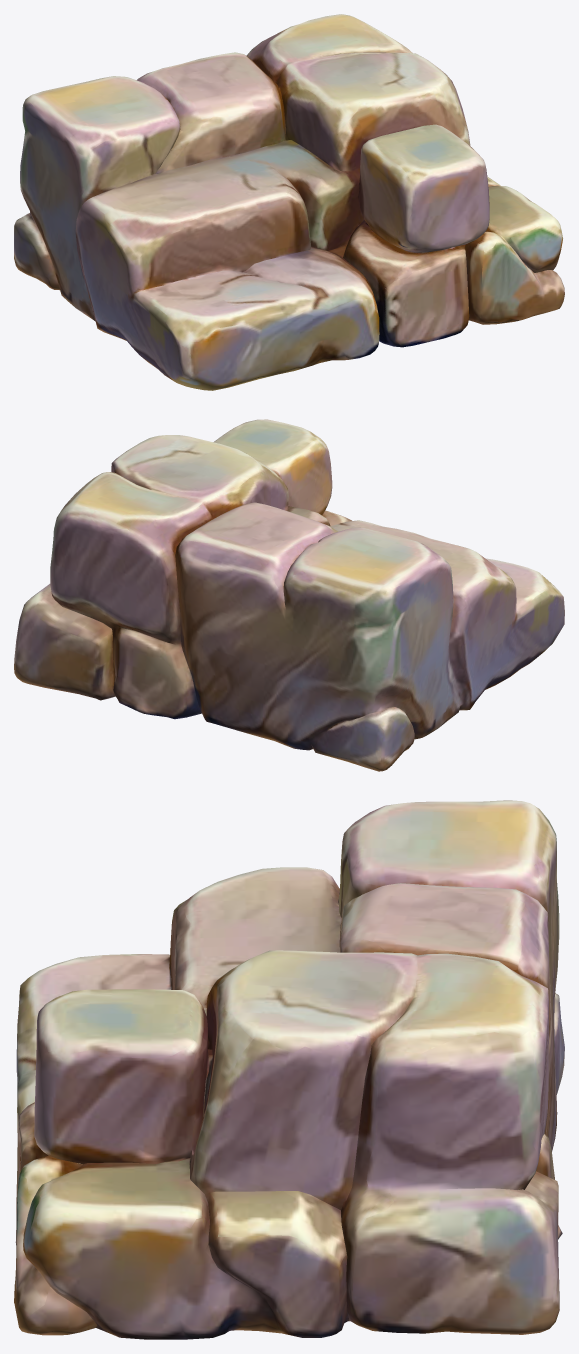
File: quarry_a.glb
3 renders of one model, top to bottom at view 1: azimuth 30°, elevation 25°; view 2: azimuth 150°, elevation 25°; view 3: azimuth 270°, elevation 25°, orthographic. The views are drawn at different scales.
Visible parts, largest first — view 1: world; view 2: world; view 3: world.
Part boxes in pixels (x1,y1,x2,y2): world: [14, 14, 564, 390]; world: [14, 419, 564, 771]; world: [14, 800, 564, 1339].
Size of the model in its own units: 1 by 0.4538 by 0.8195.
1 material, 1 textured.
